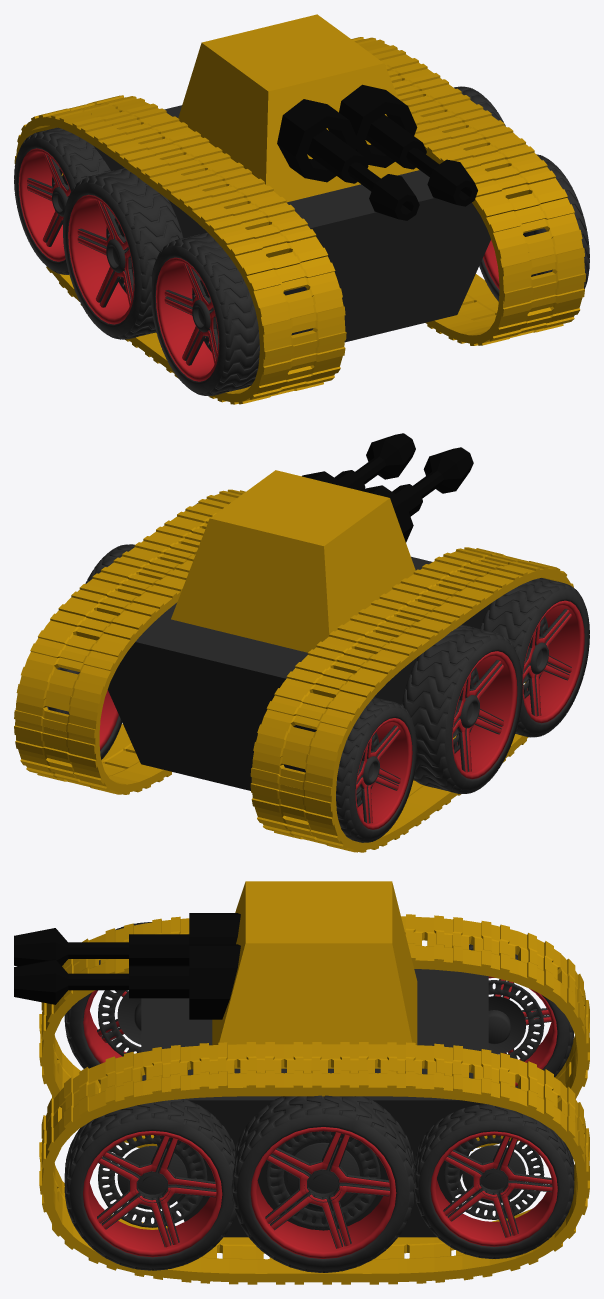
Rendered from tanktaret1.fbx.
The picture shows the model from 3 angles, top to bottom: view 1: azimuth 30°, elevation 25°; view 2: azimuth 150°, elevation 25°; view 3: azimuth 270°, elevation 25°; orthographic projection. The views are drawn at different scales.
Visible parts, largest first — view 1: Cube.002, Cube.001; view 2: Cube.002, Cube.001; view 3: Cube.002, Cube.001.
Part boxes in pixels (<box>): Cube.002: <box>14,14,589,396</box>; Cube.001: <box>14,37,586,404</box>; Cube.002: <box>47,433,589,842</box>; Cube.001: <box>14,489,573,852</box>; Cube.002: <box>14,881,574,1272</box>; Cube.001: <box>39,914,589,1284</box>.
Bounding box in the file's own units: 474 × 305 × 562.
